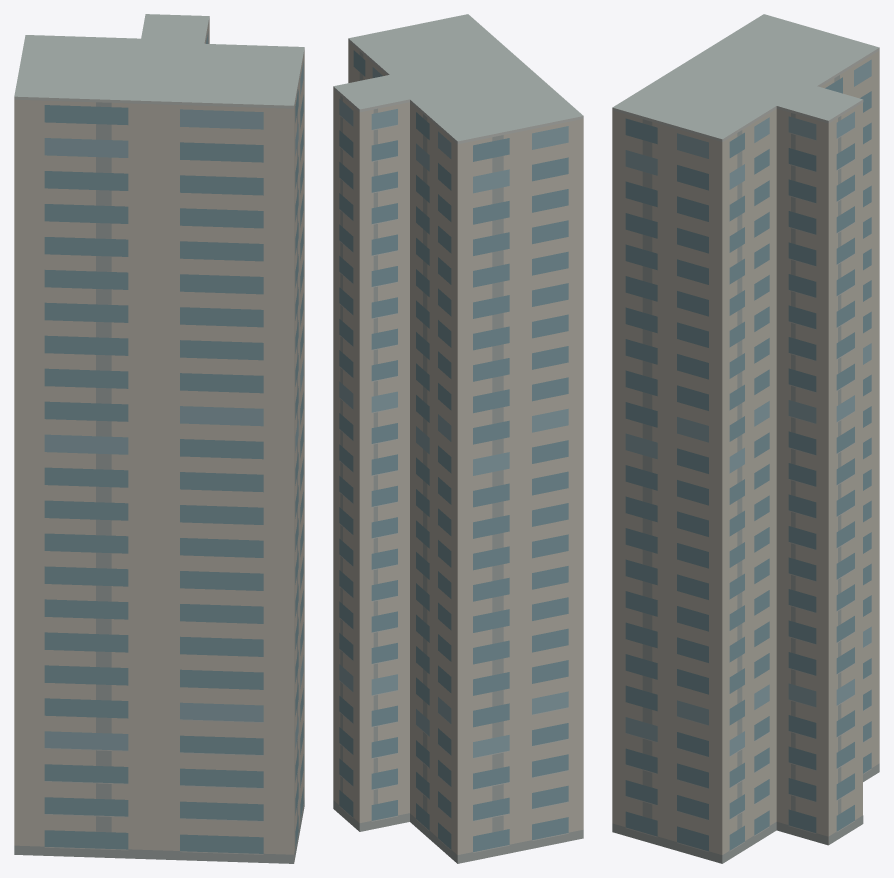
The model's file is residential-0a67daae-ce32-47b4-8190-de783b34cca3.glb.
3 renders of one model, left to right at view 1: azimuth 30°, elevation 25°; view 2: azimuth 150°, elevation 25°; view 3: azimuth 270°, elevation 25°, orthographic. The views are drawn at different scales.
Parts seen in each view (by area): view 1: residential-0a67daae-ce32-47b4-8190-de783b34cca3.tmp; view 2: residential-0a67daae-ce32-47b4-8190-de783b34cca3.tmp; view 3: residential-0a67daae-ce32-47b4-8190-de783b34cca3.tmp.
Boxes of the visible parts, x1,y1,x2,y2 form: residential-0a67daae-ce32-47b4-8190-de783b34cca3.tmp: (14,14,304,863); residential-0a67daae-ce32-47b4-8190-de783b34cca3.tmp: (333,14,583,863); residential-0a67daae-ce32-47b4-8190-de783b34cca3.tmp: (612,14,879,863).
Bounding box in the file's own units: 23.38 × 63 × 21.07.
